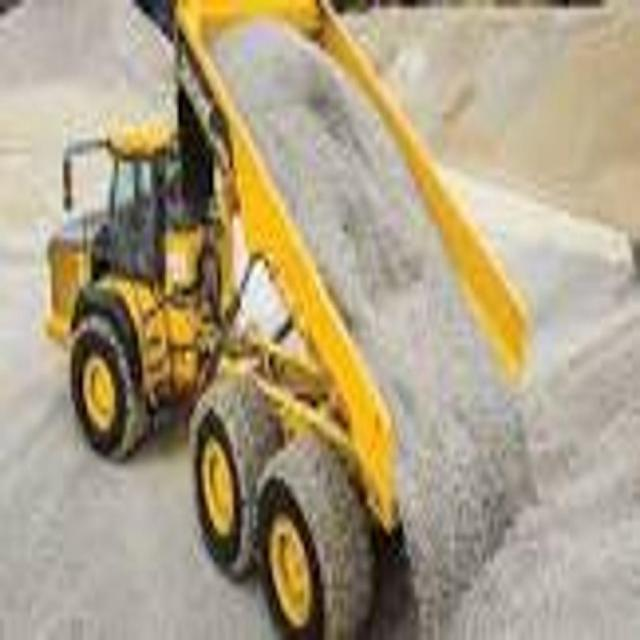dump_truck: (44, 0, 536, 636)
